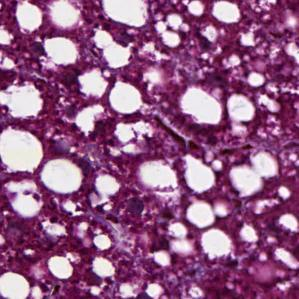steatosis: (0, 127, 43, 169), (179, 86, 224, 125), (40, 157, 87, 194), (105, 80, 142, 115), (201, 227, 232, 256)
